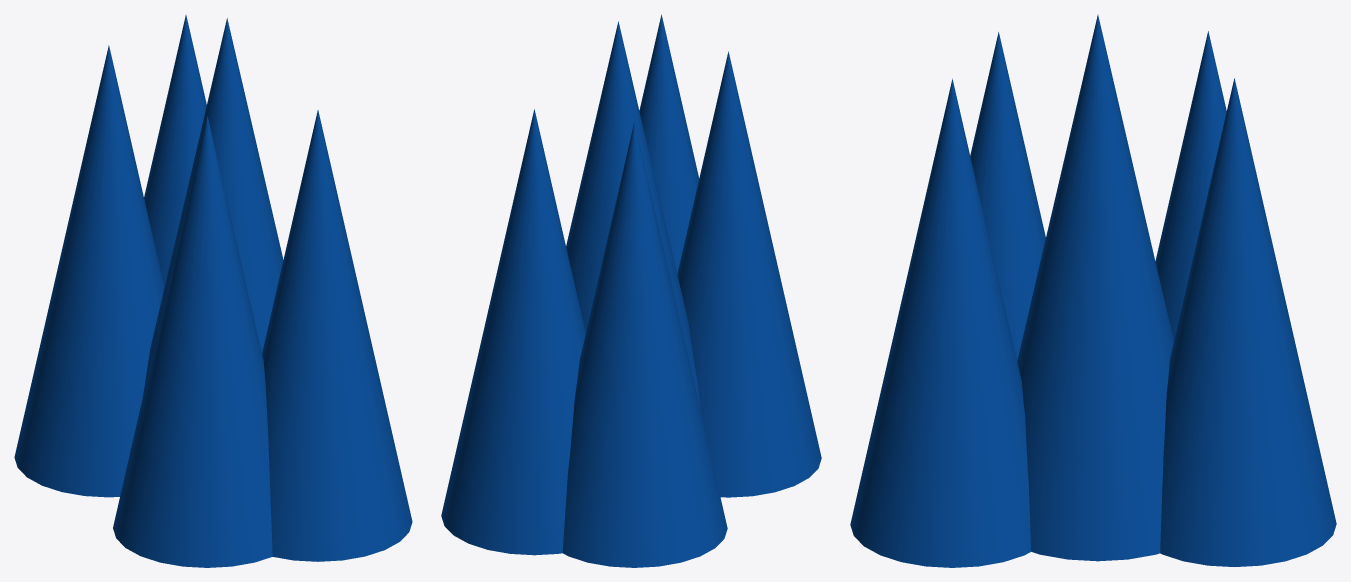
The model's file is spikes.fbx.
3 views of the same model, side by side, from view 1: azimuth 30°, elevation 25°; view 2: azimuth 150°, elevation 25°; view 3: azimuth 270°, elevation 25° (orthographic). The views are drawn at different scales.
Parts seen in each view (by area): view 1: Cone004, Cone001, Cone005, Cone002, Cone003; view 2: Cone005, Cone003, Cone004, Cone002, Cone001; view 3: Cone002, Cone001, Cone003, Cone004, Cone005.
Part boxes in pixels (bbox=[...]): Cone004: bbox=[113, 116, 272, 567]; Cone001: bbox=[262, 110, 412, 561]; Cone005: bbox=[14, 45, 164, 497]; Cone002: bbox=[143, 18, 283, 395]; Cone003: bbox=[144, 14, 206, 286]; Cone005: bbox=[562, 121, 727, 567]; Cone003: bbox=[441, 109, 585, 555]; Cone004: bbox=[677, 51, 821, 497]; Cone002: bbox=[566, 21, 700, 409]; Cone001: bbox=[639, 14, 699, 273]; Cone002: bbox=[1017, 15, 1173, 561]; Cone001: bbox=[850, 78, 1030, 567]; Cone003: bbox=[1160, 78, 1336, 566]; Cone004: bbox=[970, 32, 1045, 360]; Cone005: bbox=[1155, 31, 1226, 340].
Size of the model in its own units: 22.13 by 38.29 by 33.87.
